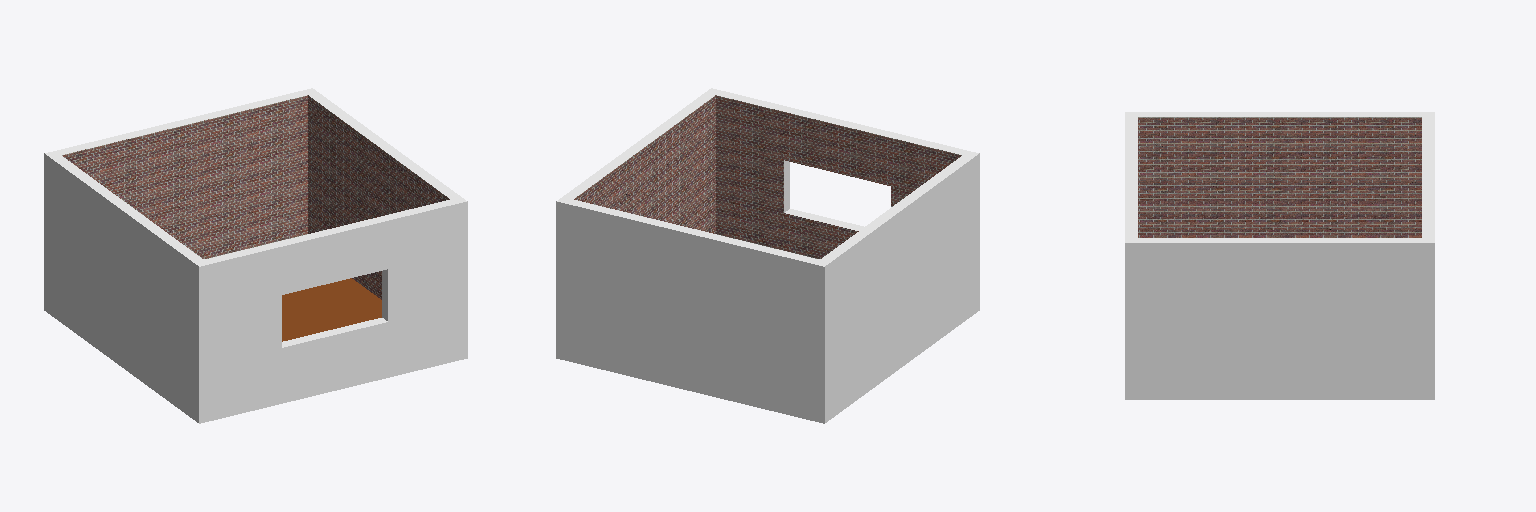
3 views of the same model, side by side, from view 1: azimuth 30°, elevation 25°; view 2: azimuth 150°, elevation 25°; view 3: azimuth 270°, elevation 25° (orthographic).
Parts seen in each view (by area): view 1: Mesh1_Model; view 2: Mesh1_Model; view 3: Mesh1_Model.
Part boxes in pixels (x1,y1,x2,y2): Mesh1_Model: (44, 88, 467, 423); Mesh1_Model: (556, 88, 979, 423); Mesh1_Model: (1125, 112, 1434, 399).
Bounding box in the file's own units: 5 × 2.8 × 5.
3 materials, 1 textured.